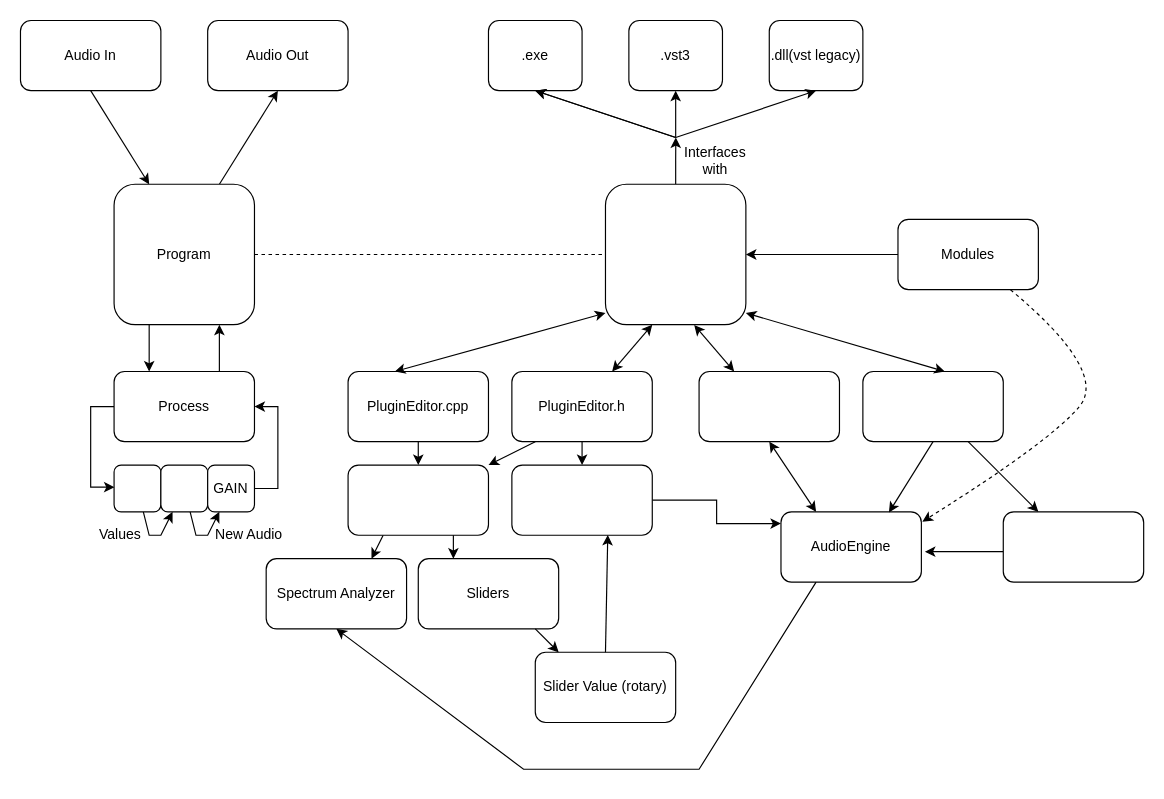
This 1164x799 diagram has some shape labels left out. Here are the shapes that lost their labels. From the top down, the box of each, then its label:
(604, 183, 746, 325): JUCE Pre generated code
(698, 370, 839, 442): PluginProcessor.cpp
(862, 370, 1003, 442): PluginProcessor.h
(113, 464, 161, 512): GUI
(160, 464, 208, 512): DSP
(347, 464, 488, 535): GUI Elements
(511, 464, 652, 535): Listener
(1002, 511, 1144, 582): Distortion()
